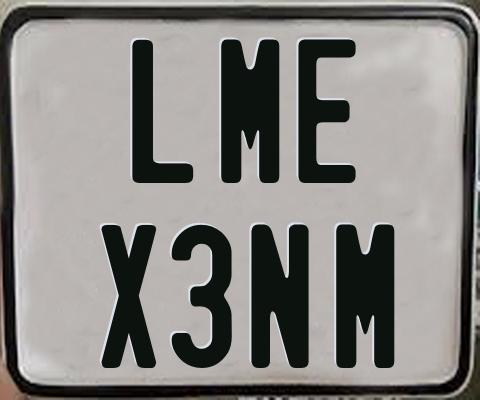3: (170, 223, 235, 368)
E: (298, 38, 356, 188)
L: (132, 38, 197, 187)
M: (334, 223, 398, 371), (218, 38, 276, 186)
N: (249, 223, 313, 371)
X: (101, 224, 161, 373)
